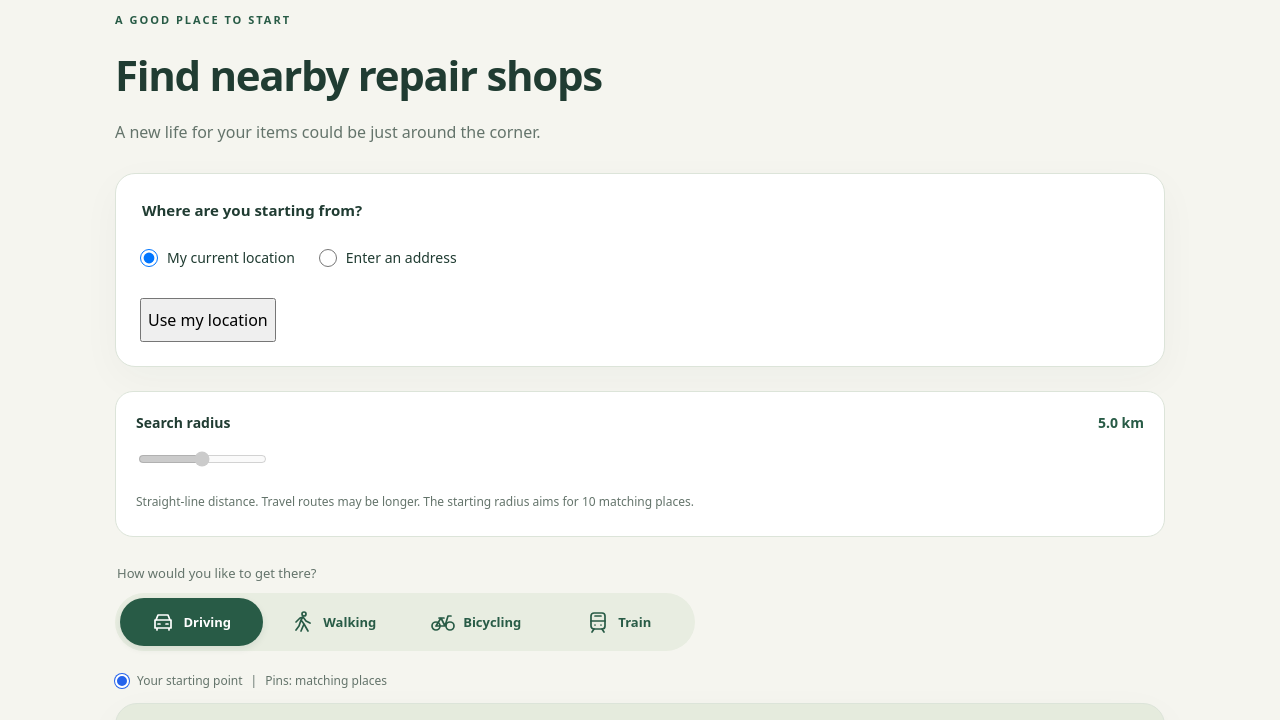
it: radius starts at ten matches and expands/shrinks without another search request
This screenshot has width=1280, height=720.
Click the button "Use my location". click: click(208, 320)
box: x1=140 y1=298 x2=276 y2=342
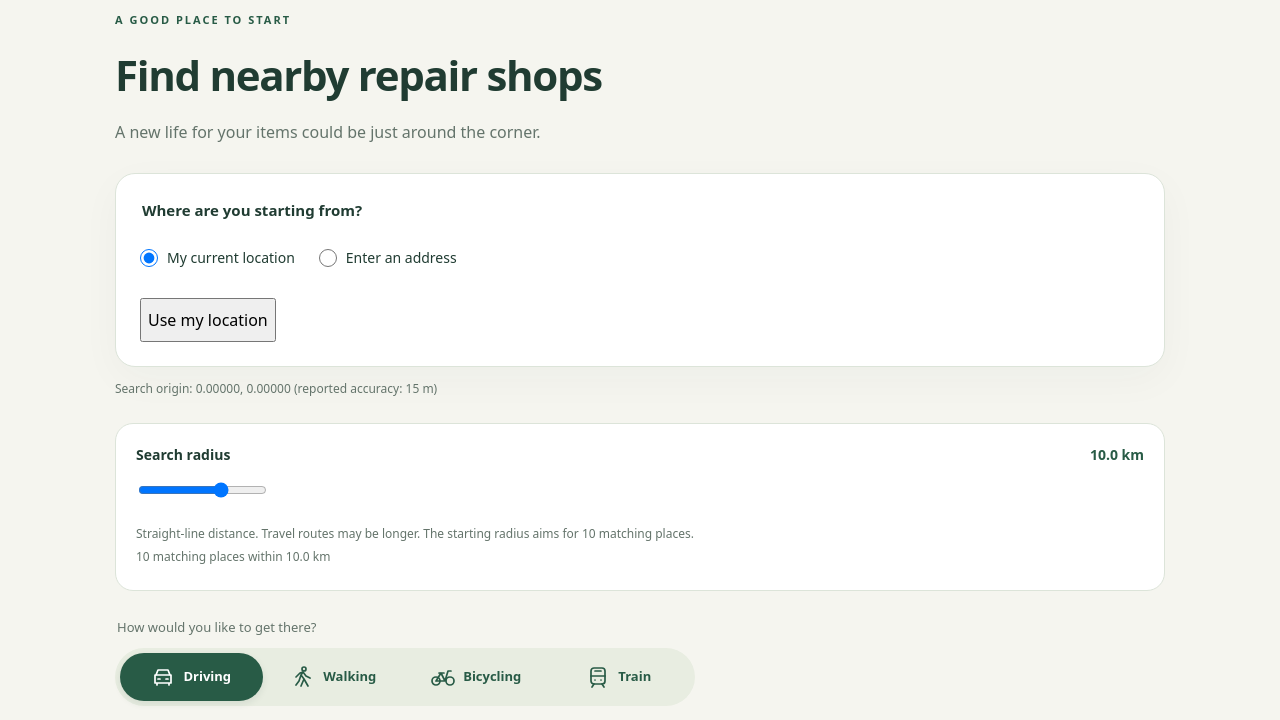
Expected: the text "10 matching places within 10.0 km" is shown, x1=136 y1=548 x2=330 y2=565
Expected: the slider labelled "Search radius 10.0 km" holds "10"
Set the slider labelled "Search radius 10.0 km" to "15". click: (259, 490)
box: x1=138 y1=468 x2=267 y2=512
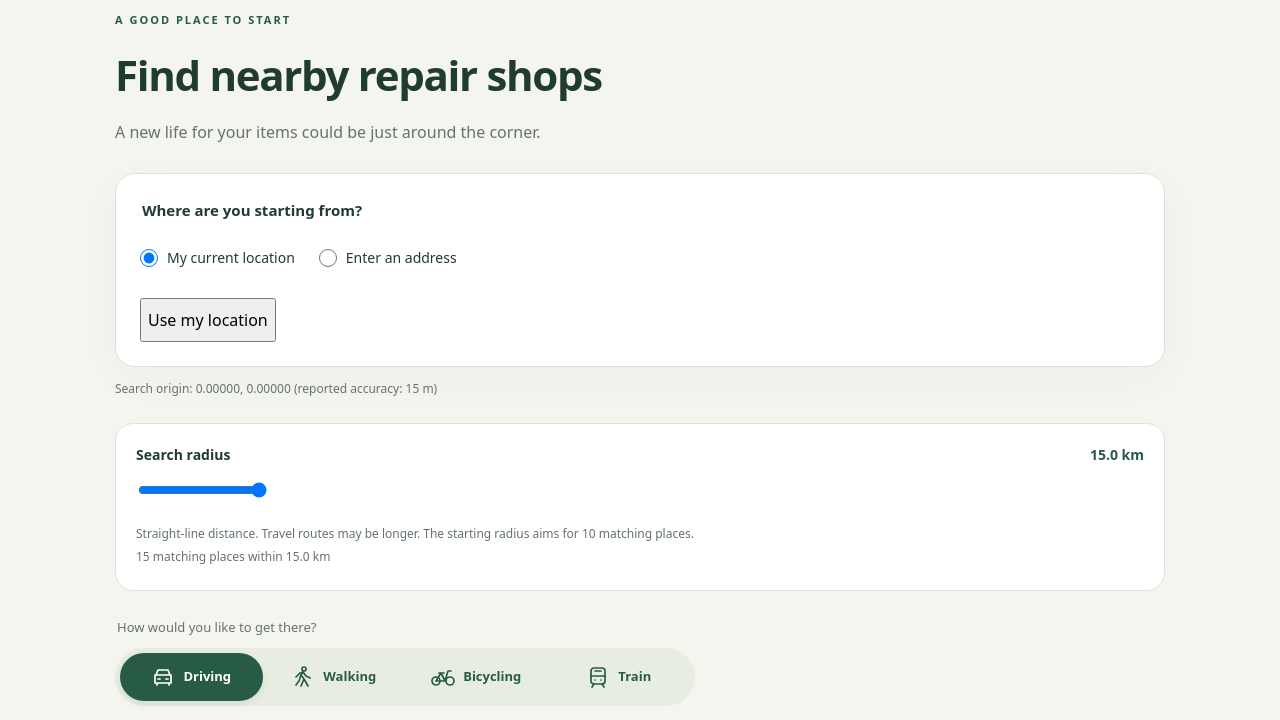
Expected: the text "15 matching places within 15.0 km" is shown, x1=136 y1=548 x2=330 y2=565
Set the slider labelled "Search radius 15.0 km" to "0.1". click: (146, 490)
box: x1=138 y1=468 x2=267 y2=512
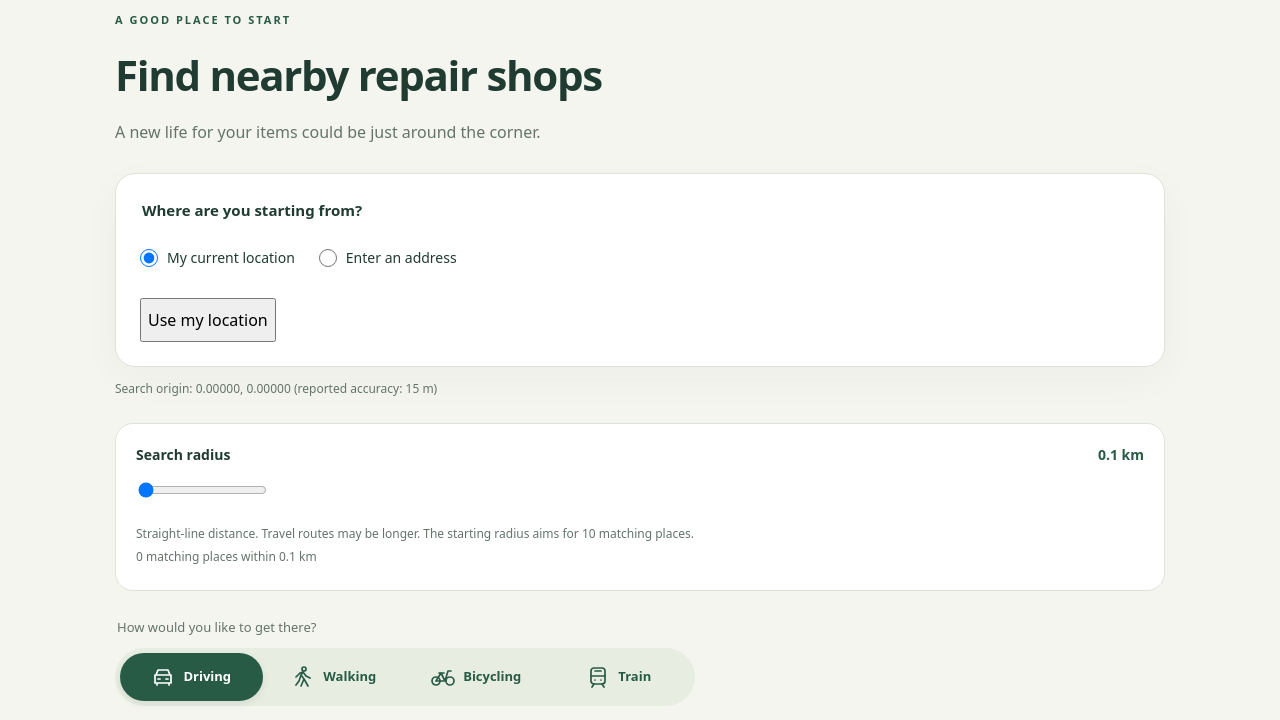
Expected: the text "0 matching places within 0.1 km" is shown, x1=136 y1=548 x2=317 y2=565
